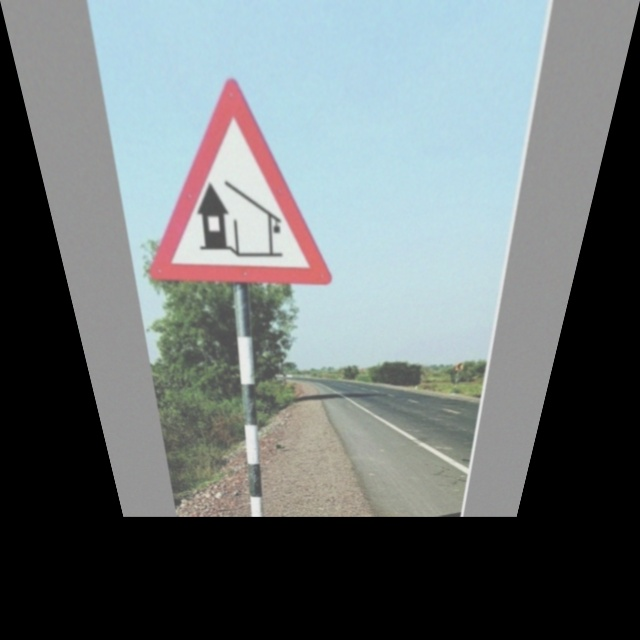Barrier_Ahead: (121, 80, 329, 293)
